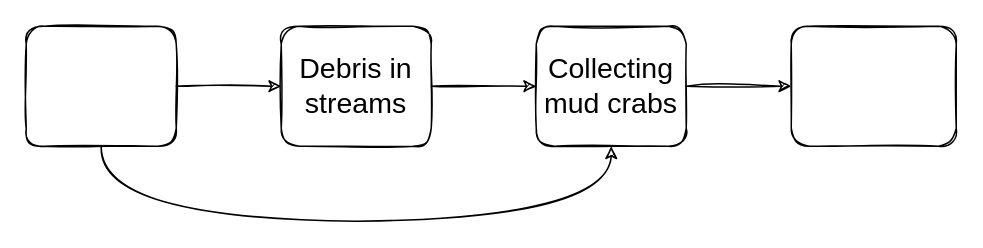
Some shapes in this 983 by 248 pixel diagram are drawn without their labels. The centre of each missing label's shape, as x and y in pixels:
"Collect crabs in new locations" goes at pixel 873 85.
"Tropical Cyclone" goes at pixel 100 85.
